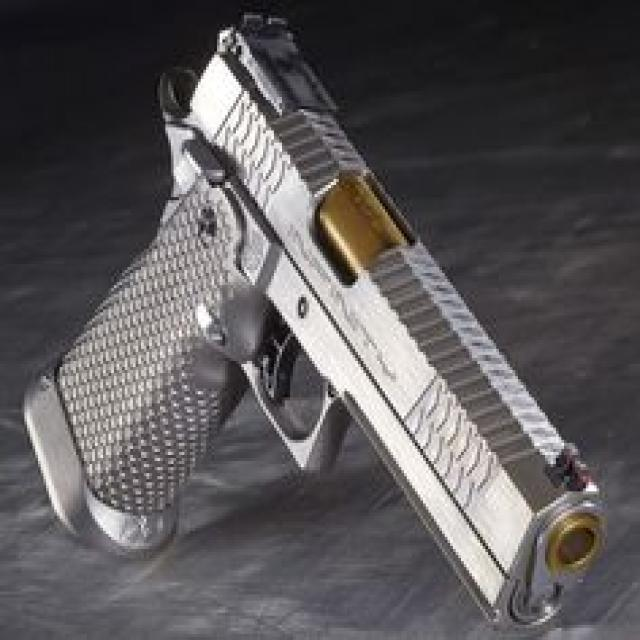semi automatic: (11, 10, 623, 640)
